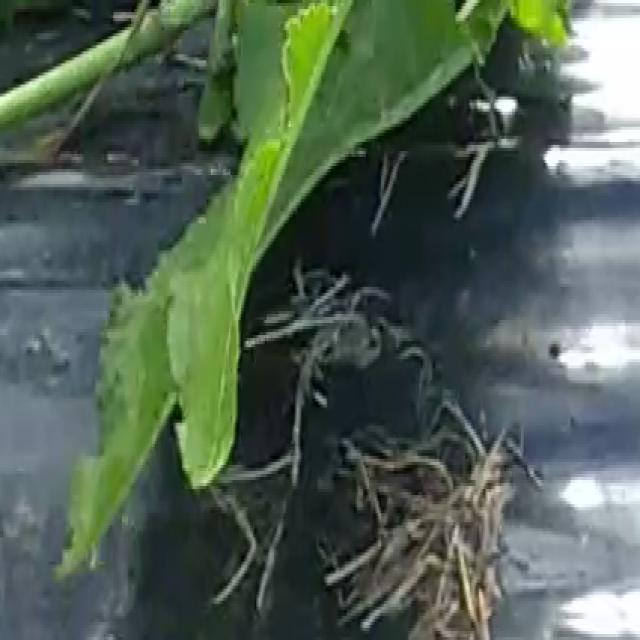organic waste: (44, 0, 536, 586)
